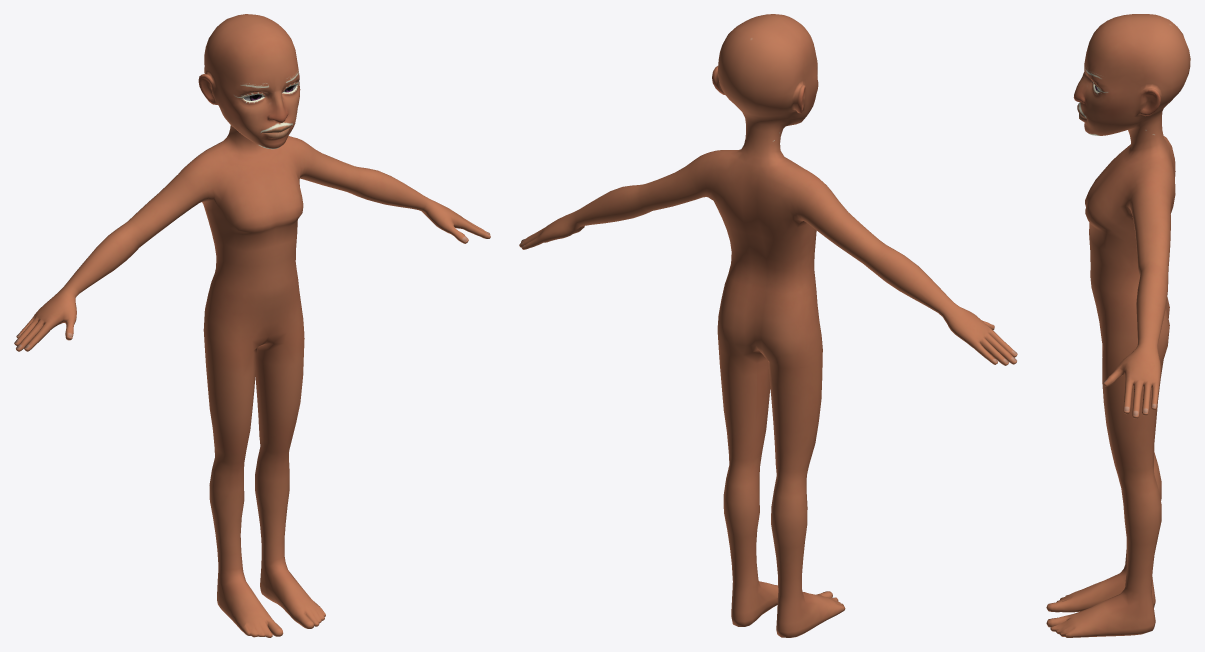
The model's file is frame_0091.glb.
The picture shows the model from 3 angles, left to right: view 1: azimuth 30°, elevation 25°; view 2: azimuth 150°, elevation 25°; view 3: azimuth 270°, elevation 25°; orthographic projection. The views are drawn at different scales.
Parts seen in each view (by area): view 1: frame_0091_head_geo; view 2: frame_0091_head_geo; view 3: frame_0091_head_geo.
Boxes of the visible parts, x1,y1,x2,y2 form: frame_0091_head_geo: (14,14,490,637); frame_0091_head_geo: (519,14,1017,637); frame_0091_head_geo: (1046,14,1190,637).
Bounding box in the file's own units: 1.28 × 1.5 × 0.3253.
3 materials, 3 textured.
